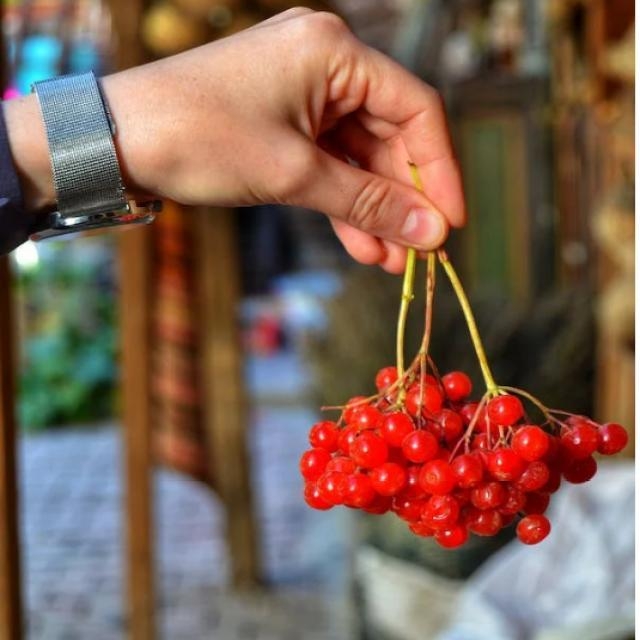Watch: (30, 70, 161, 246)
